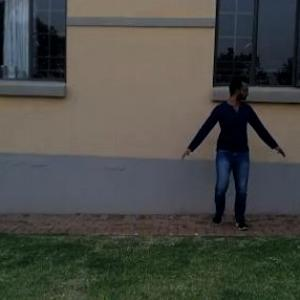land: (177, 70, 277, 238)
